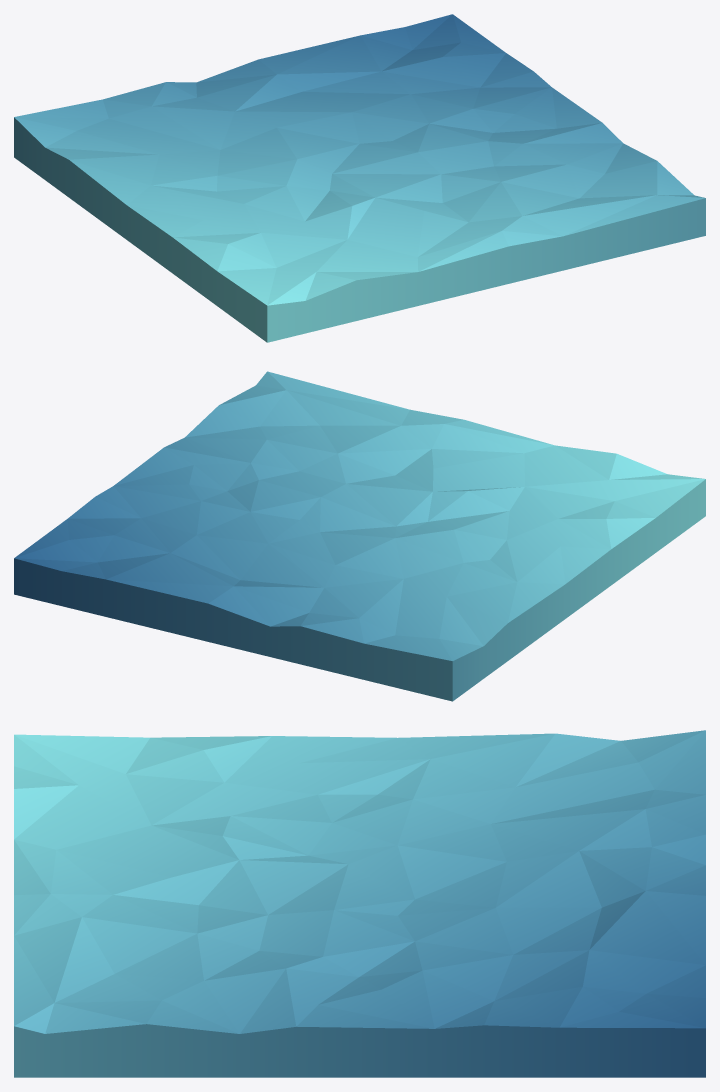
File: water-location-lighthouse-pier.glb
The picture shows the model from 3 angles, top to bottom: view 1: azimuth 30°, elevation 25°; view 2: azimuth 150°, elevation 25°; view 3: azimuth 270°, elevation 25°; orthographic projection. The views are drawn at different scales.
Visible parts, largest first — view 1: water location lighthouse pier; view 2: water location lighthouse pier; view 3: water location lighthouse pier.
Boxes of the visible parts, x1,y1,x2,y2 form: water location lighthouse pier: (14, 14, 705, 342); water location lighthouse pier: (14, 371, 705, 701); water location lighthouse pier: (14, 730, 705, 1077).
Bounding box in the file's own units: 45 × 4.08 × 45.
1 material, 1 textured.
